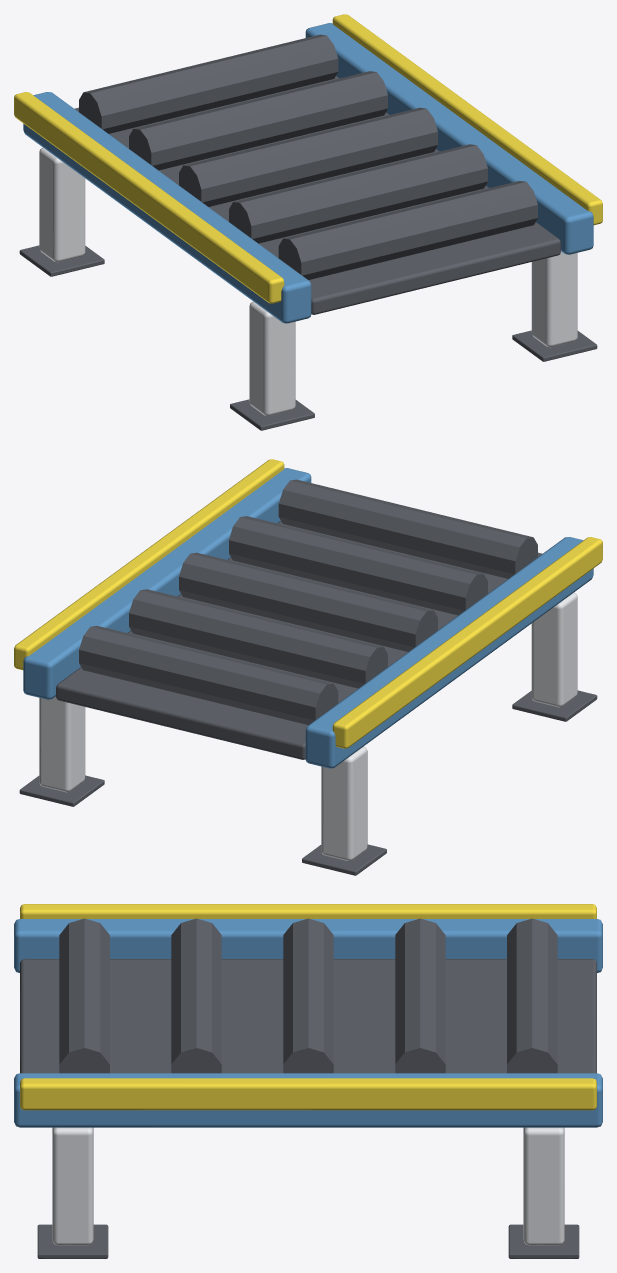
Rendered from FactoryConveyor.glb.
3 renders of one model, top to bottom at view 1: azimuth 30°, elevation 25°; view 2: azimuth 150°, elevation 25°; view 3: azimuth 270°, elevation 25°, orthographic. The views are drawn at different scales.
Parts seen in each view (by area): view 1: skid-conveyor-straight, roller-1, roller-5, roller-2, roller-3, roller-4; view 2: skid-conveyor-straight, roller-1, roller-5, roller-2, roller-3, roller-4; view 3: skid-conveyor-straight, roller-3, roller-1, roller-5, roller-2, roller-4.
Boxes of the visible parts, left/top/right/bottom form: skid-conveyor-straight: left=14, top=14, right=602, bottom=430; roller-1: left=79, top=34, right=338, bottom=133; roller-5: left=278, top=181, right=537, bottom=279; roller-2: left=129, top=71, right=387, bottom=170; roller-3: left=179, top=107, right=437, bottom=206; roller-4: left=229, top=144, right=487, bottom=243; skid-conveyor-straight: left=14, top=459, right=602, bottom=875; roller-1: left=79, top=626, right=338, bottom=724; roller-5: left=278, top=479, right=537, bottom=578; roller-2: left=129, top=589, right=387, bottom=688; roller-3: left=179, top=552, right=437, bottom=651; roller-4: left=229, top=516, right=487, bottom=615; skid-conveyor-straight: left=14, top=904, right=602, bottom=1258; roller-3: left=283, top=918, right=333, bottom=1073; roller-1: left=507, top=918, right=557, bottom=1073; roller-5: left=59, top=918, right=109, bottom=1073; roller-2: left=395, top=918, right=445, bottom=1073; roller-4: left=171, top=918, right=221, bottom=1073.
Bounding box in the file's own units: 1.39 × 0.6486 × 1.88.
